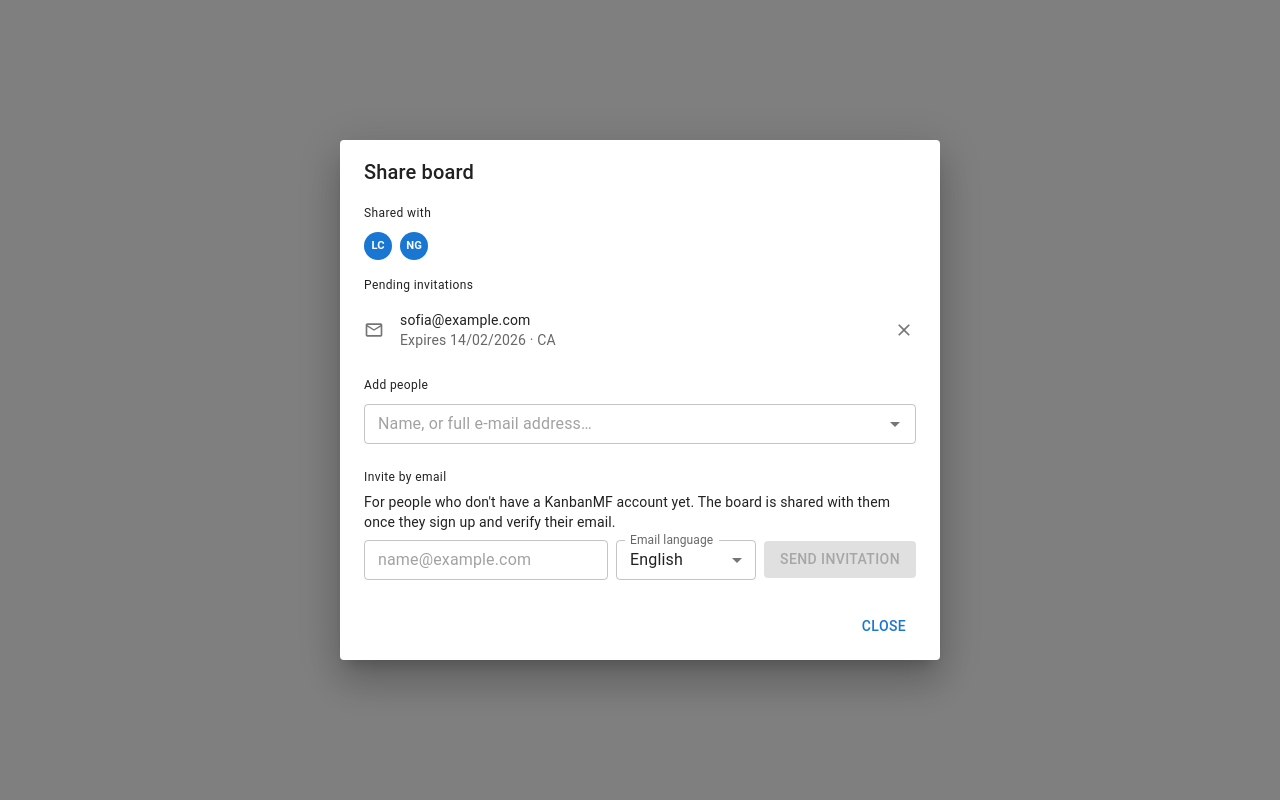
Test case: ShareBoardDialog › the people it is shared with › asks before removing someone, saying how many of their cards will be replaced
The width and height of the screenshot is (1280, 800).
Click the button with aria-label "Remove Liam Chen from this board": x=378, y=246 [364,232,392,260]
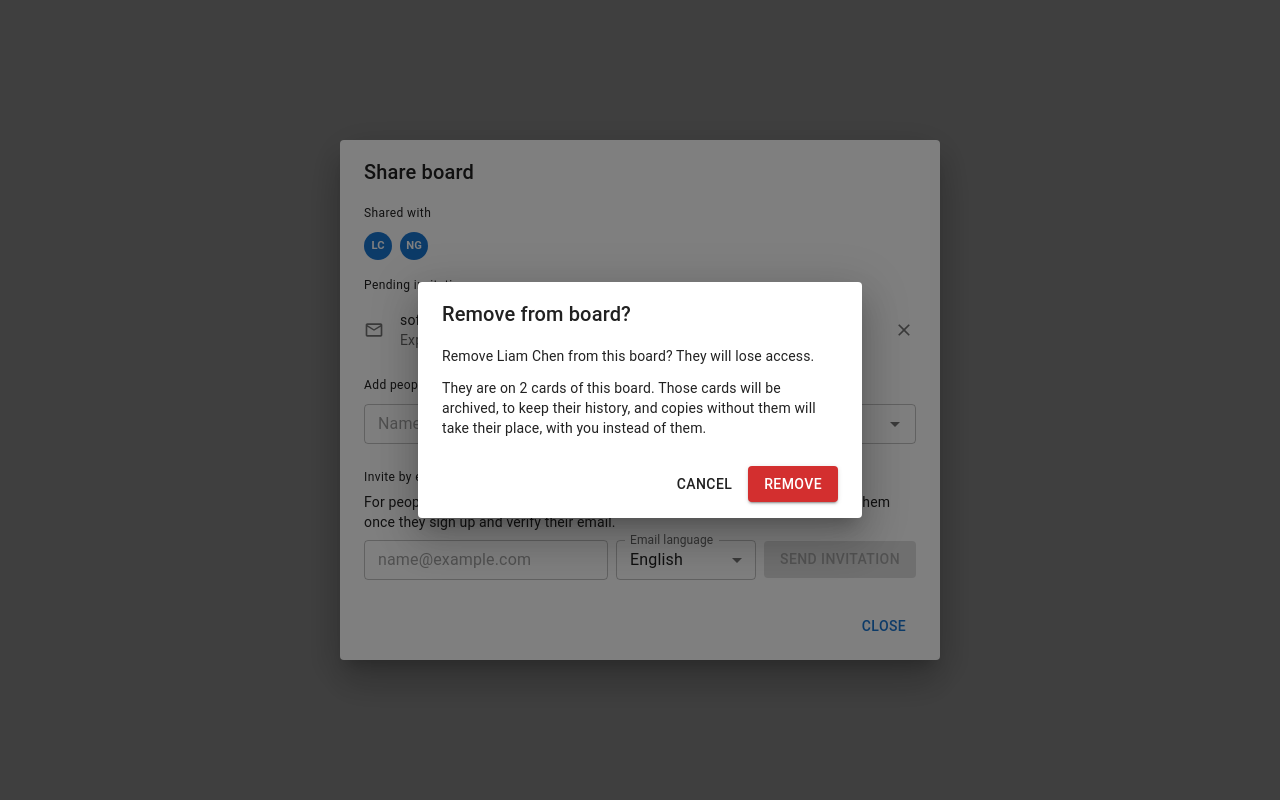
Expected: the dialog "Remove from board?" shows "Remove Liam Chen from this board? They will lose access.", [442,348,814,364]
Expected: the text "They are on 2 cards of this board." is shown, [442,380,816,436]
